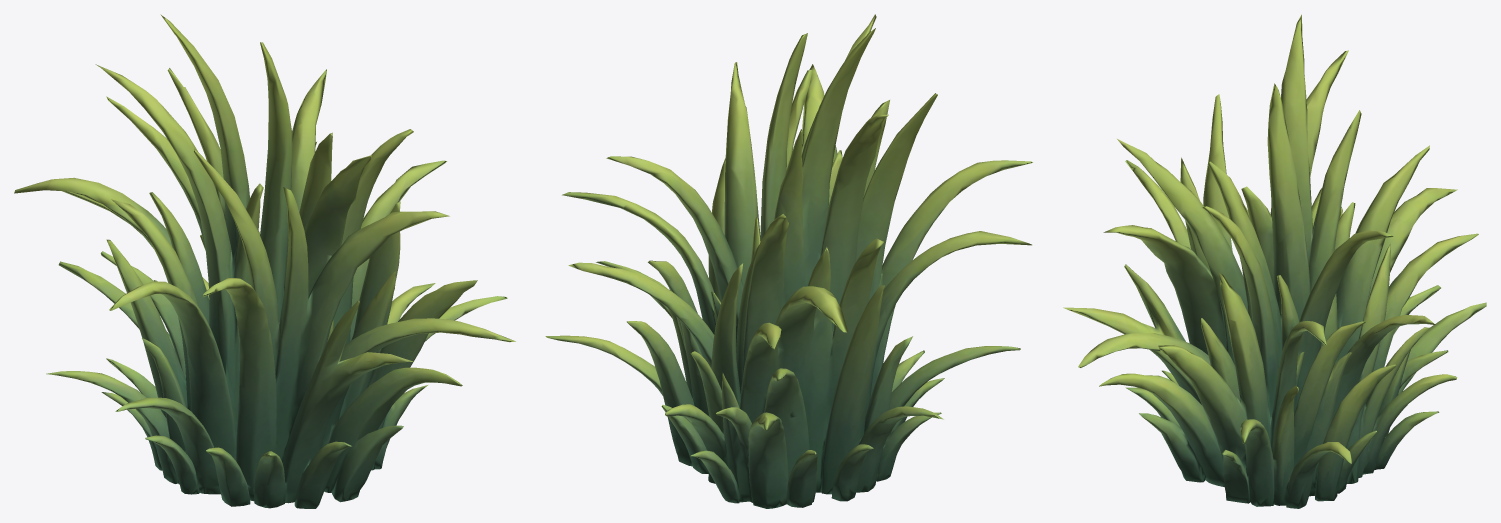
File: pasto_alto.glb
3 renders of one model, left to right at view 1: azimuth 30°, elevation 25°; view 2: azimuth 150°, elevation 25°; view 3: azimuth 270°, elevation 25°, orthographic. The views are drawn at different scales.
Visible parts, largest first — view 1: tripo_node_9163a93f-4d23-4b2a-8d20-dc374487ed98; view 2: tripo_node_9163a93f-4d23-4b2a-8d20-dc374487ed98; view 3: tripo_node_9163a93f-4d23-4b2a-8d20-dc374487ed98.
Part boxes in pixels (x1,y1,x2,y2): tripo_node_9163a93f-4d23-4b2a-8d20-dc374487ed98: (14, 14, 515, 508); tripo_node_9163a93f-4d23-4b2a-8d20-dc374487ed98: (545, 14, 1032, 508); tripo_node_9163a93f-4d23-4b2a-8d20-dc374487ed98: (1063, 14, 1486, 508).
Bounding box in the file's own units: 0.9378 × 1 × 0.9381.
1 material, 1 textured.
